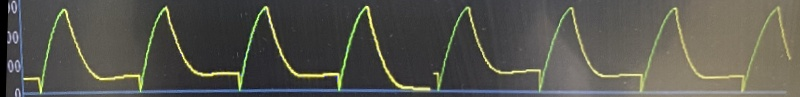leakage: (33, 0, 789, 97)
